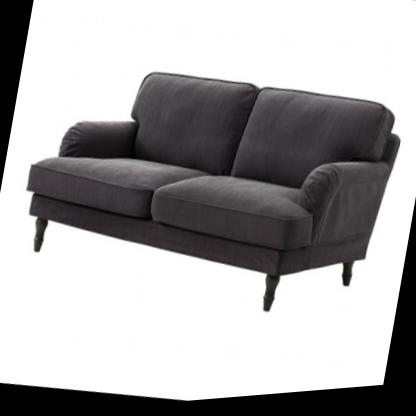Sofa: (4, 36, 410, 357)
